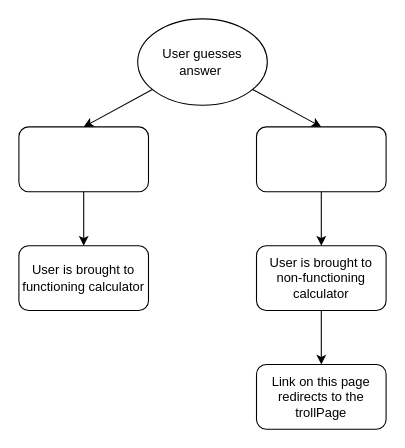
The diagram is 405 pixels wide and 448 high, and some of its shapes have lost their labels. Here are the shapes that lost their labels. From the top down, the centre of each, then its label:
(x=83, y=159): User is correct
(x=320, y=159): User is Incorrect
